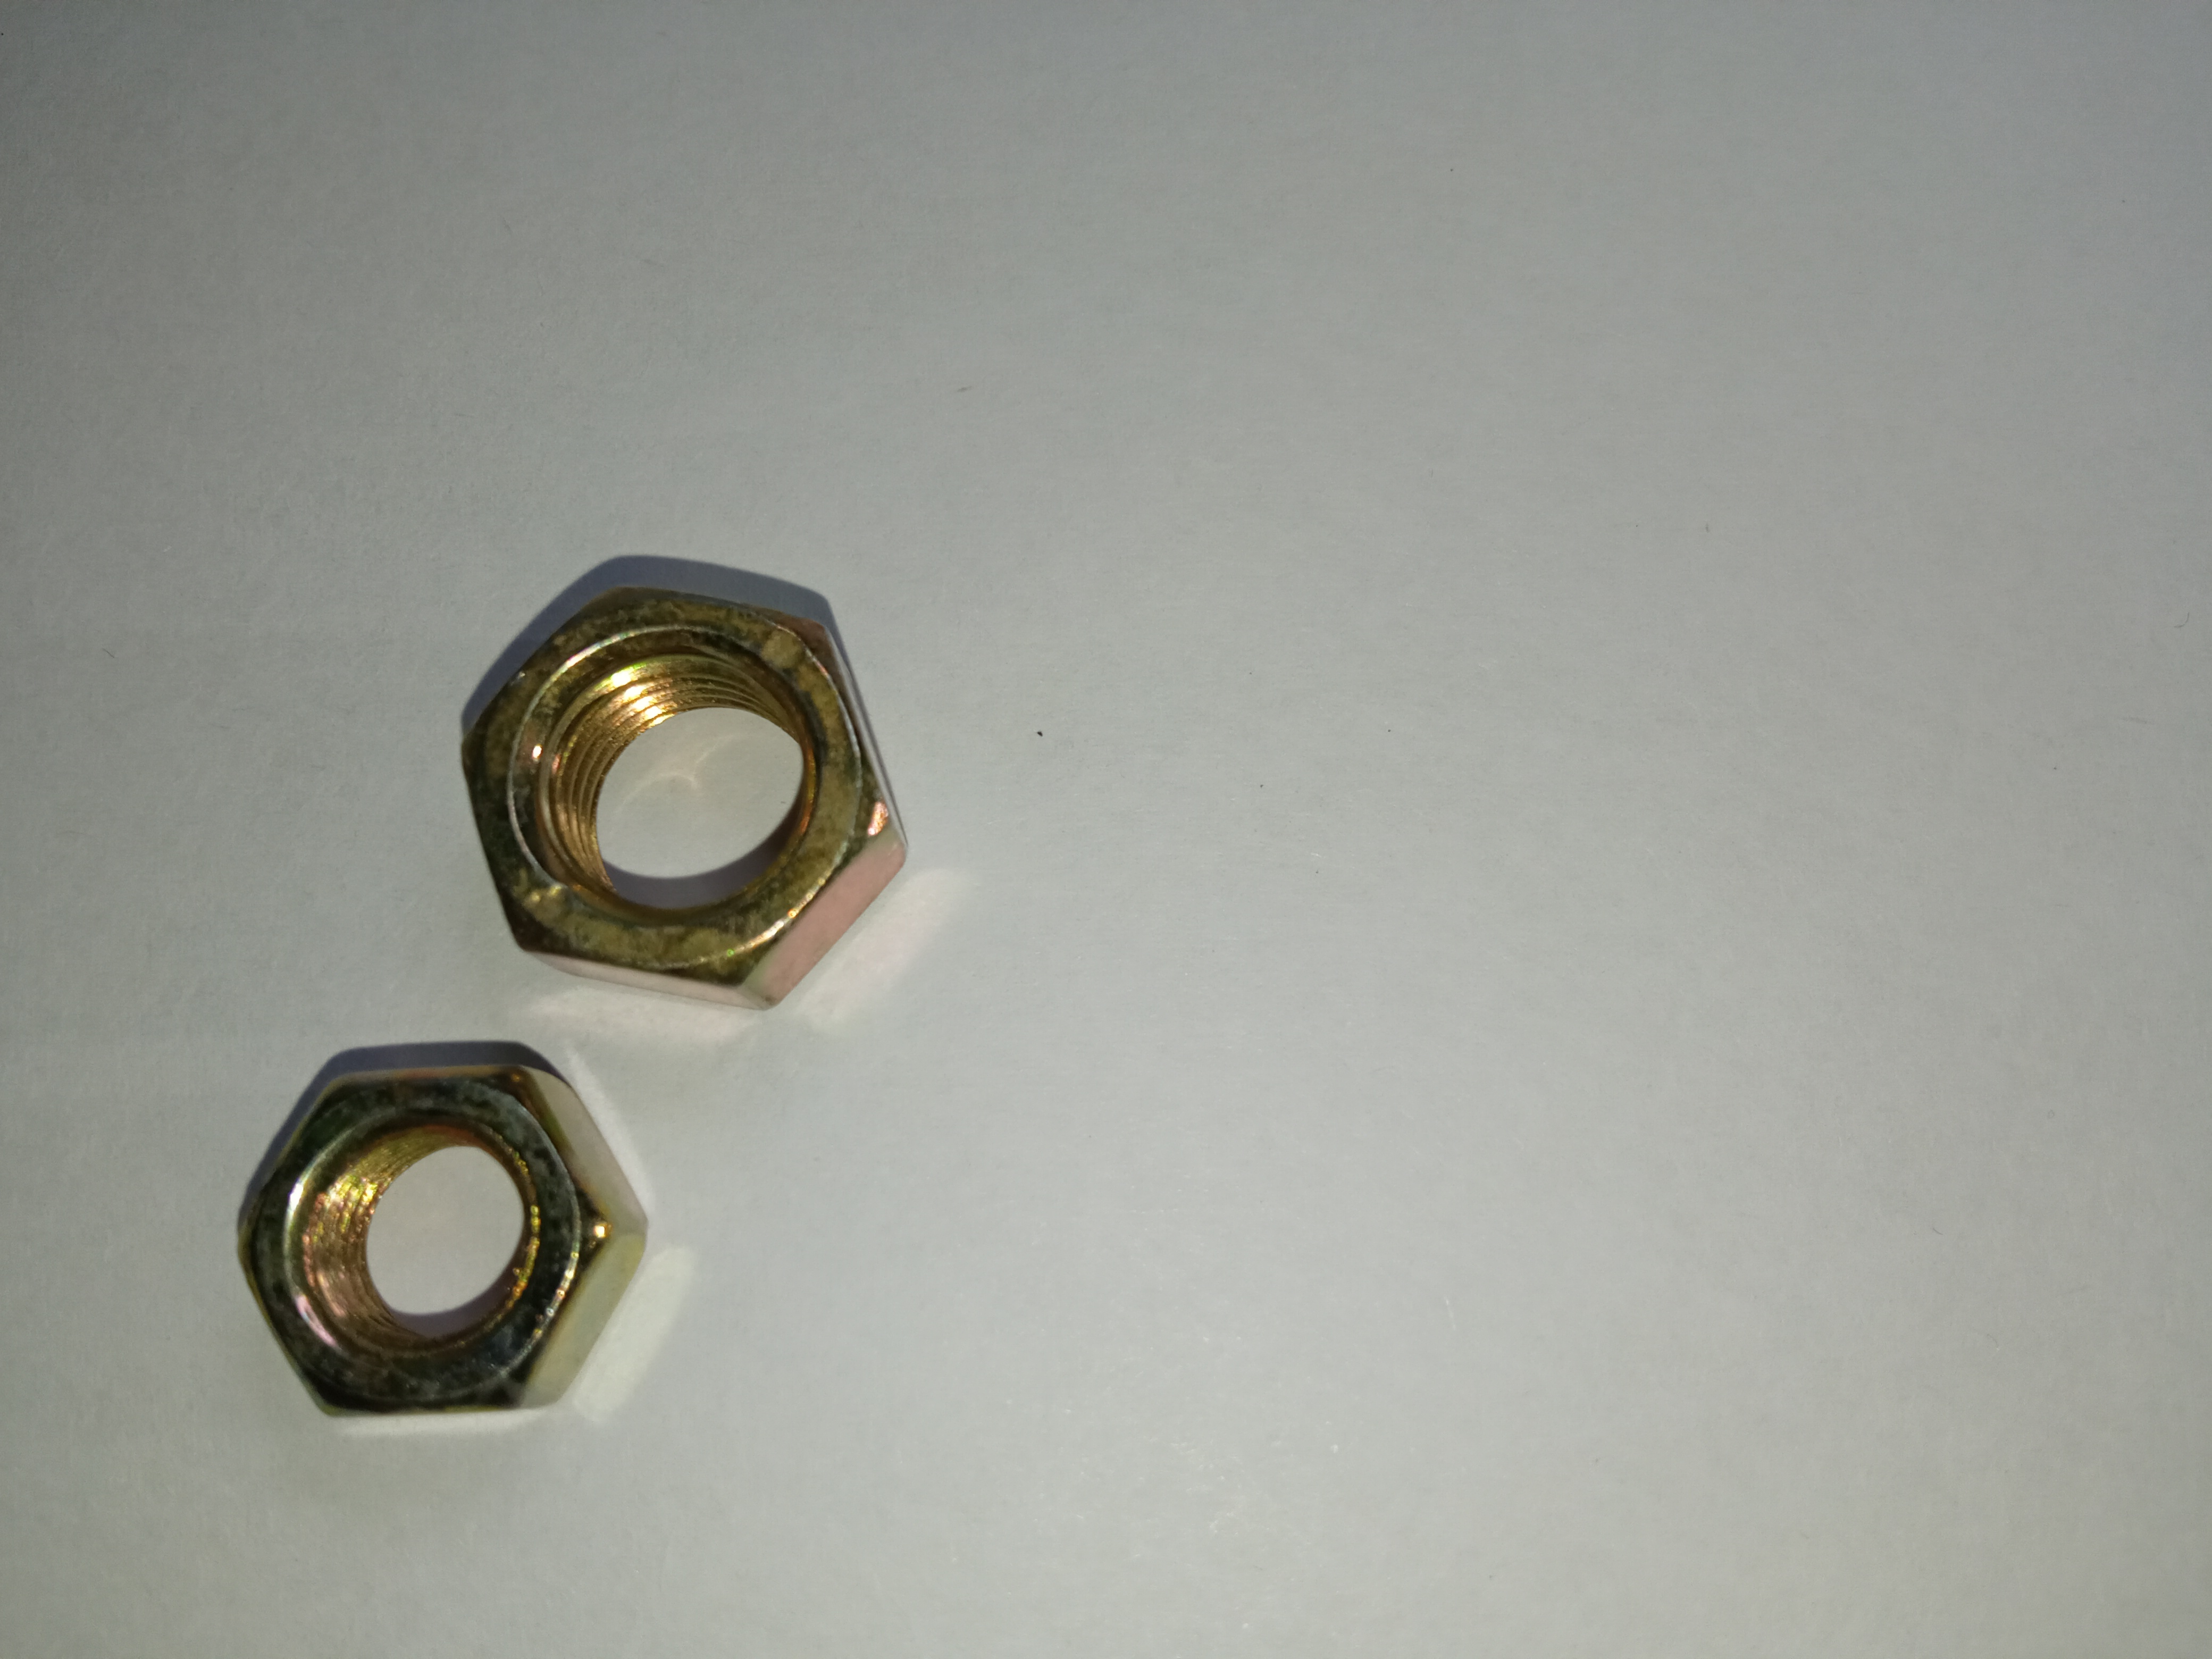m10: (472, 598, 883, 981)
m8: (260, 1061, 599, 1405)
